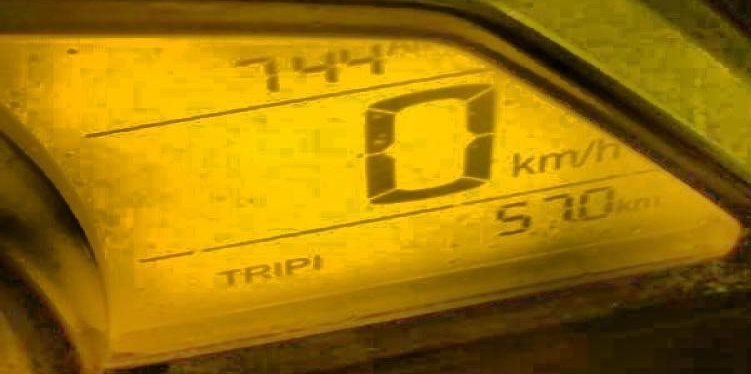-: (571, 215, 576, 224)
0: (578, 184, 611, 219)
1: (311, 249, 321, 274)
4: (288, 48, 336, 83), (338, 43, 381, 74)
5: (493, 199, 534, 236)
7: (233, 53, 281, 93), (541, 191, 571, 219)
X: (536, 150, 573, 171), (595, 134, 620, 163), (510, 150, 535, 177), (573, 138, 594, 165), (283, 255, 308, 275), (216, 265, 241, 285), (243, 263, 269, 280), (386, 36, 410, 54), (631, 194, 660, 208), (616, 195, 630, 212), (270, 259, 281, 278)
